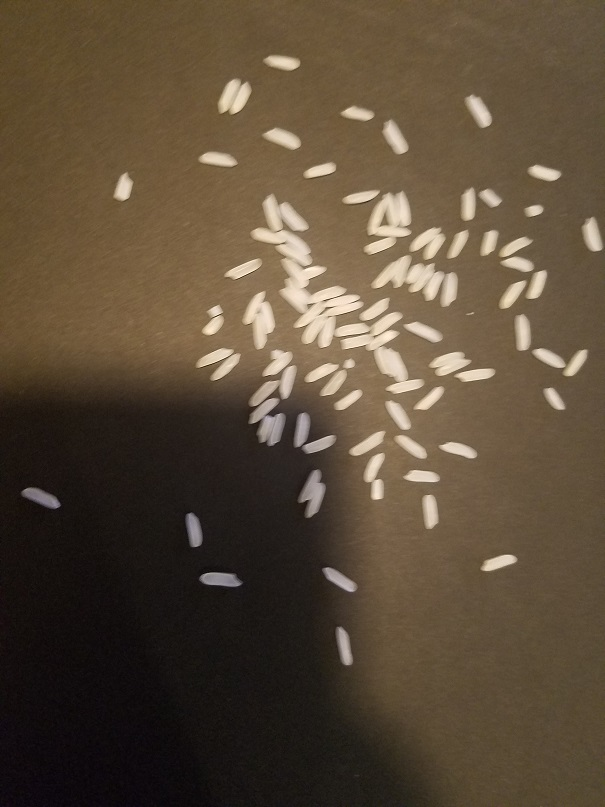egg: (347, 428, 385, 457), (401, 319, 444, 344), (382, 119, 411, 156), (21, 486, 63, 511), (465, 94, 494, 130), (223, 256, 263, 282), (321, 565, 358, 593), (296, 468, 324, 505), (209, 352, 241, 383), (278, 202, 311, 232), (215, 78, 241, 116), (227, 79, 253, 117), (241, 288, 267, 326), (278, 258, 309, 289), (408, 261, 437, 294), (369, 311, 403, 339), (393, 433, 428, 460), (382, 345, 409, 380), (272, 243, 313, 266), (194, 346, 235, 369), (260, 127, 302, 149), (261, 192, 284, 232), (245, 397, 279, 424), (412, 385, 446, 412), (579, 216, 604, 252), (248, 379, 279, 408), (383, 399, 412, 430), (292, 302, 325, 329), (408, 225, 441, 252), (302, 482, 326, 519), (437, 439, 479, 460), (370, 259, 399, 289), (498, 279, 527, 309), (306, 283, 347, 304), (319, 368, 348, 397), (364, 329, 399, 353), (333, 626, 354, 666), (358, 296, 390, 322), (260, 351, 292, 377), (301, 432, 337, 455), (365, 200, 388, 236), (279, 230, 312, 255), (361, 450, 386, 483), (478, 553, 519, 573), (561, 347, 589, 376), (421, 270, 445, 303), (532, 346, 568, 368), (284, 276, 312, 304), (434, 358, 473, 378), (300, 314, 325, 345), (303, 362, 338, 384), (316, 313, 337, 349), (279, 289, 308, 315), (525, 163, 564, 182), (428, 350, 465, 370), (198, 149, 239, 167), (385, 378, 426, 396), (453, 366, 496, 383), (261, 54, 301, 72), (320, 300, 365, 316), (447, 229, 470, 260), (198, 571, 242, 587), (183, 512, 202, 549), (440, 271, 459, 308), (392, 255, 412, 290), (499, 236, 534, 256), (340, 188, 381, 205), (300, 161, 338, 179), (292, 412, 311, 448), (333, 390, 364, 412), (541, 386, 567, 412), (422, 232, 445, 261), (249, 226, 286, 244), (340, 104, 375, 123), (333, 321, 372, 338), (526, 269, 547, 300), (515, 313, 532, 351), (267, 412, 285, 447), (278, 364, 296, 399), (381, 191, 399, 226), (362, 237, 397, 255), (339, 333, 376, 350), (113, 170, 133, 201), (395, 190, 412, 226), (321, 292, 361, 307), (478, 187, 504, 210), (402, 468, 441, 483), (422, 494, 438, 530), (200, 315, 225, 338), (259, 301, 276, 334), (499, 255, 534, 271), (256, 414, 274, 444), (479, 229, 498, 257), (460, 185, 475, 220), (370, 345, 388, 374), (381, 347, 398, 377), (253, 312, 266, 351), (372, 224, 410, 237), (405, 262, 425, 285), (302, 262, 327, 278), (204, 302, 224, 318), (524, 202, 543, 218), (370, 479, 384, 500), (342, 357, 356, 369), (269, 349, 281, 360)
